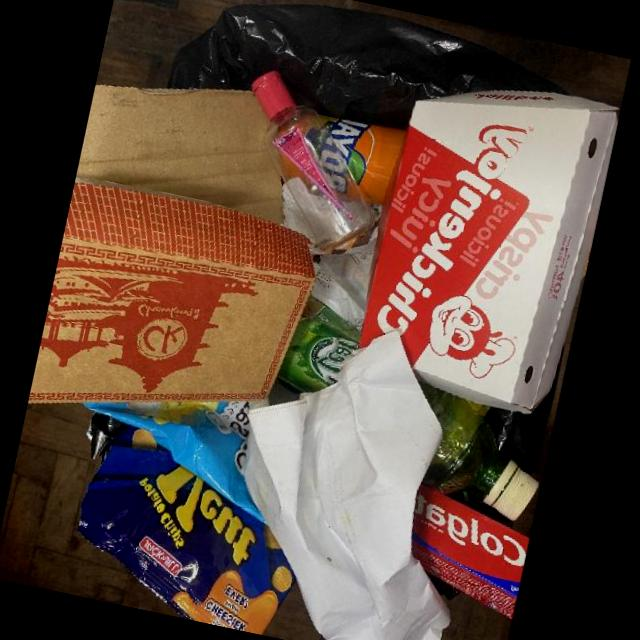bao_bi_thuc_pham: (76, 408, 296, 635), (85, 400, 267, 523)
carton: (358, 90, 619, 414), (28, 176, 315, 404), (410, 483, 530, 618)
chai_nhua: (282, 295, 538, 524), (249, 66, 375, 249)
giay: (241, 324, 451, 640)
